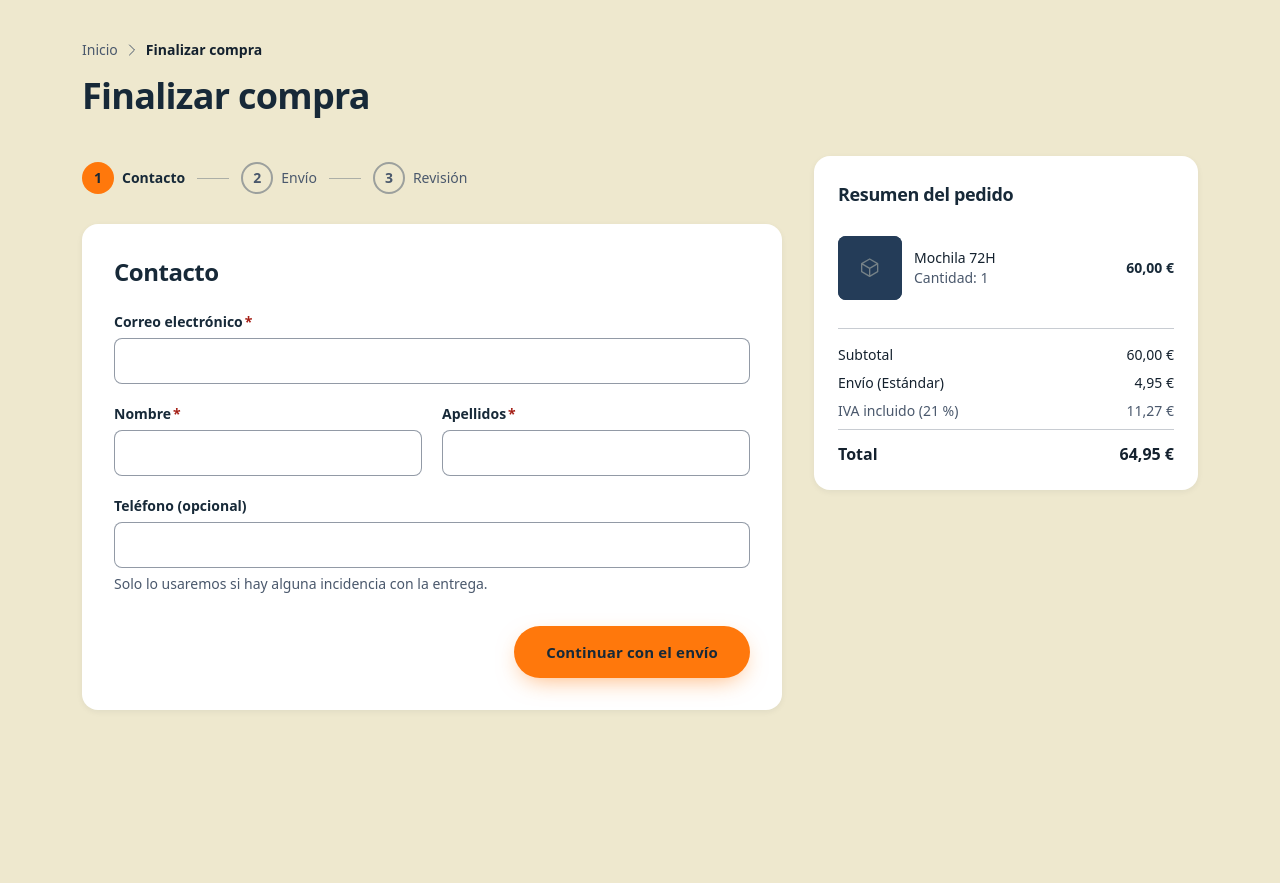
Test: CheckoutFlow › offers only shippable provinces and preselects the one matching the postal code
Type "Ana@Example.es" into the field labelled "Correo electrónico" at (432, 361), box [114,338,750,384]
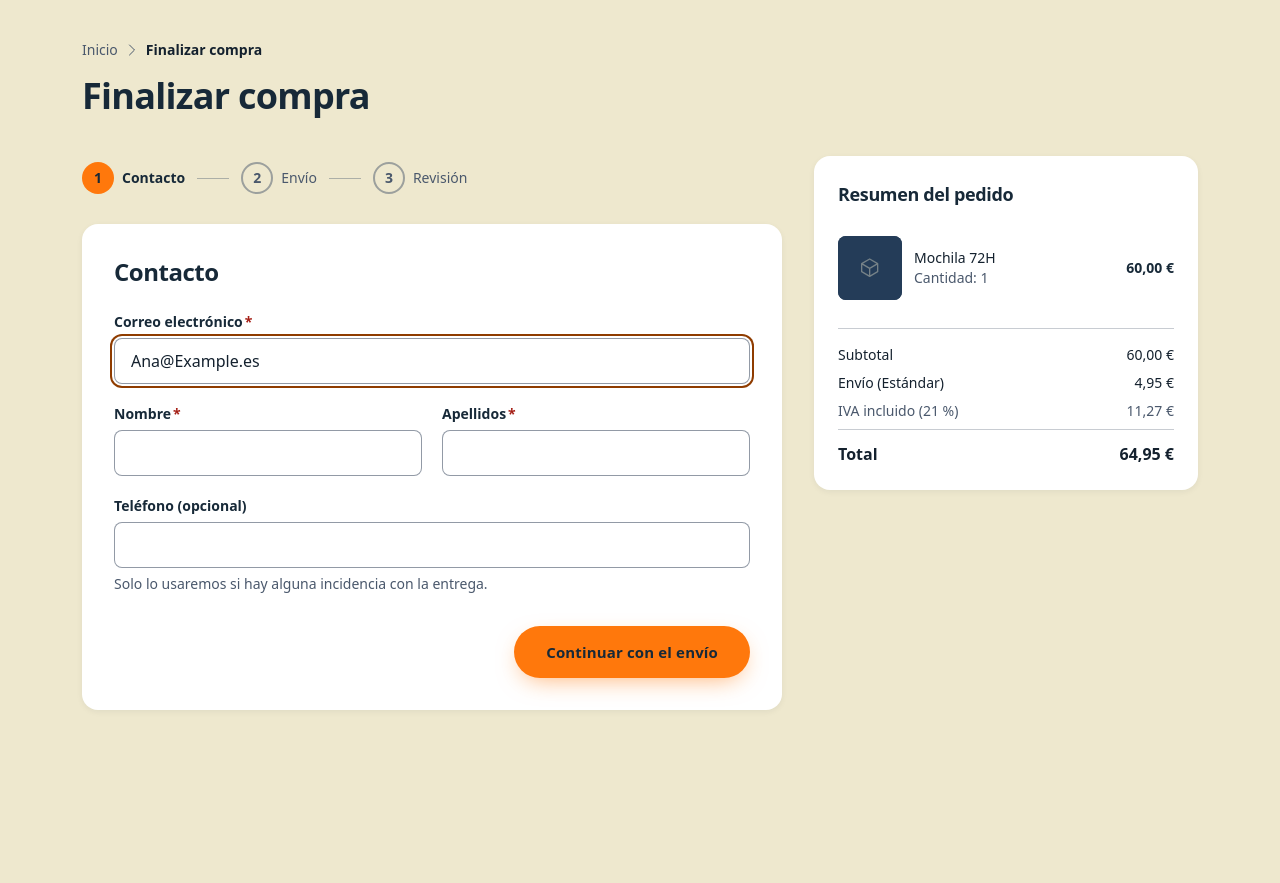
Type "Ana" into the field labelled "Nombre" at (268, 453), box [114,430,422,476]
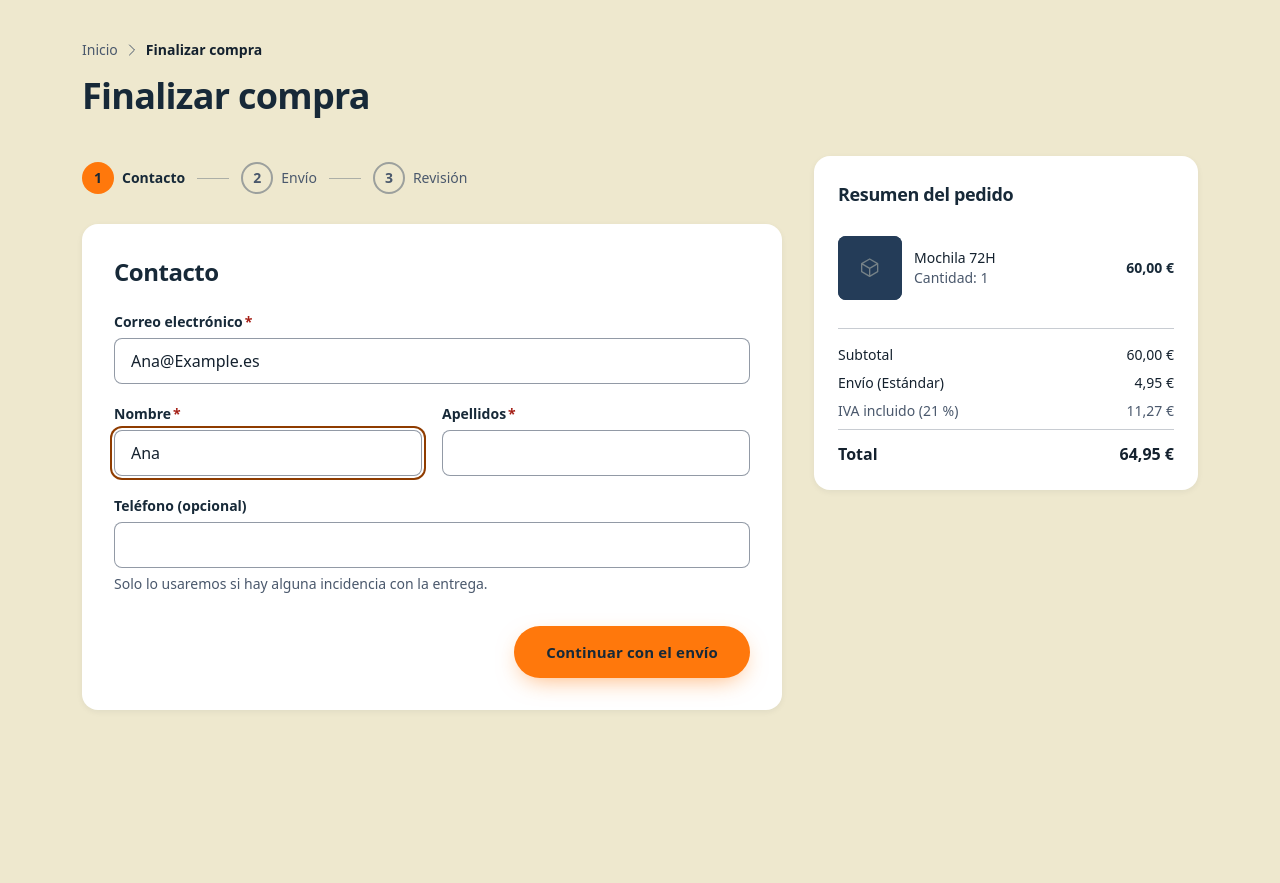
Type "García" into the field labelled "Apellidos" at (596, 453), box [442,430,750,476]
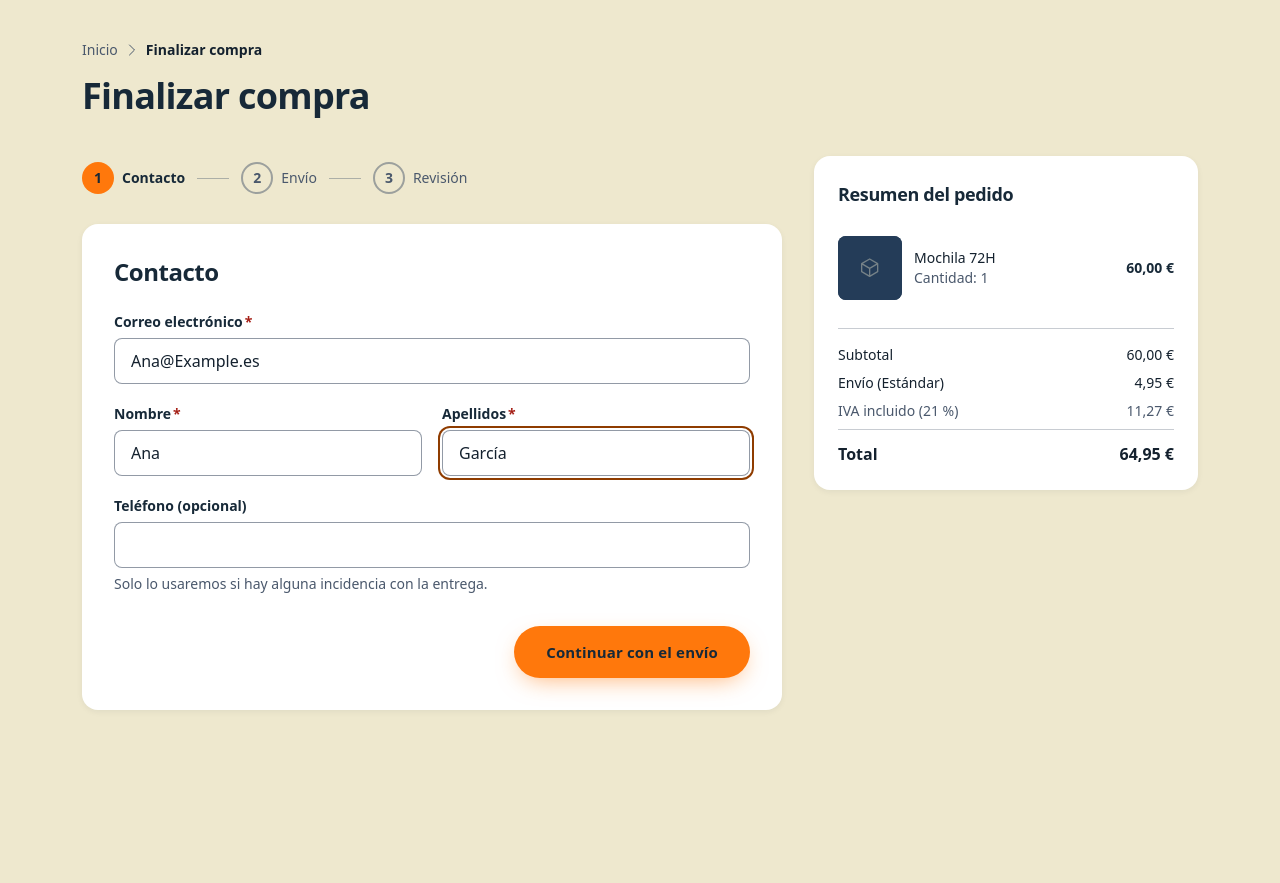
Click the button "Continuar con el envío" at (632, 652), box [514,626,750,678]
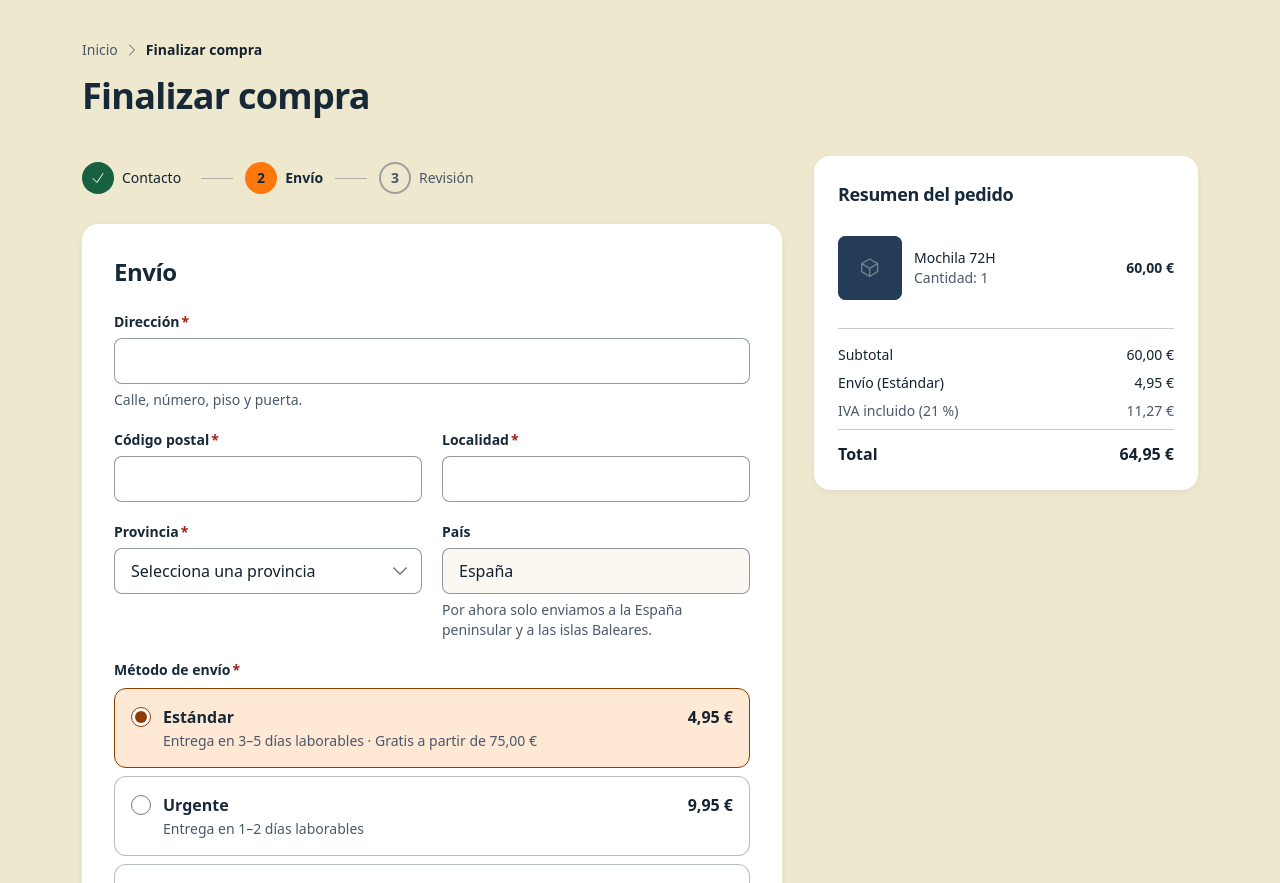
Expected: the heading "Envío" is shown, [114,255,177,288]
Type "08001" into the field labelled "Código postal" at (268, 479), box [114,456,422,502]
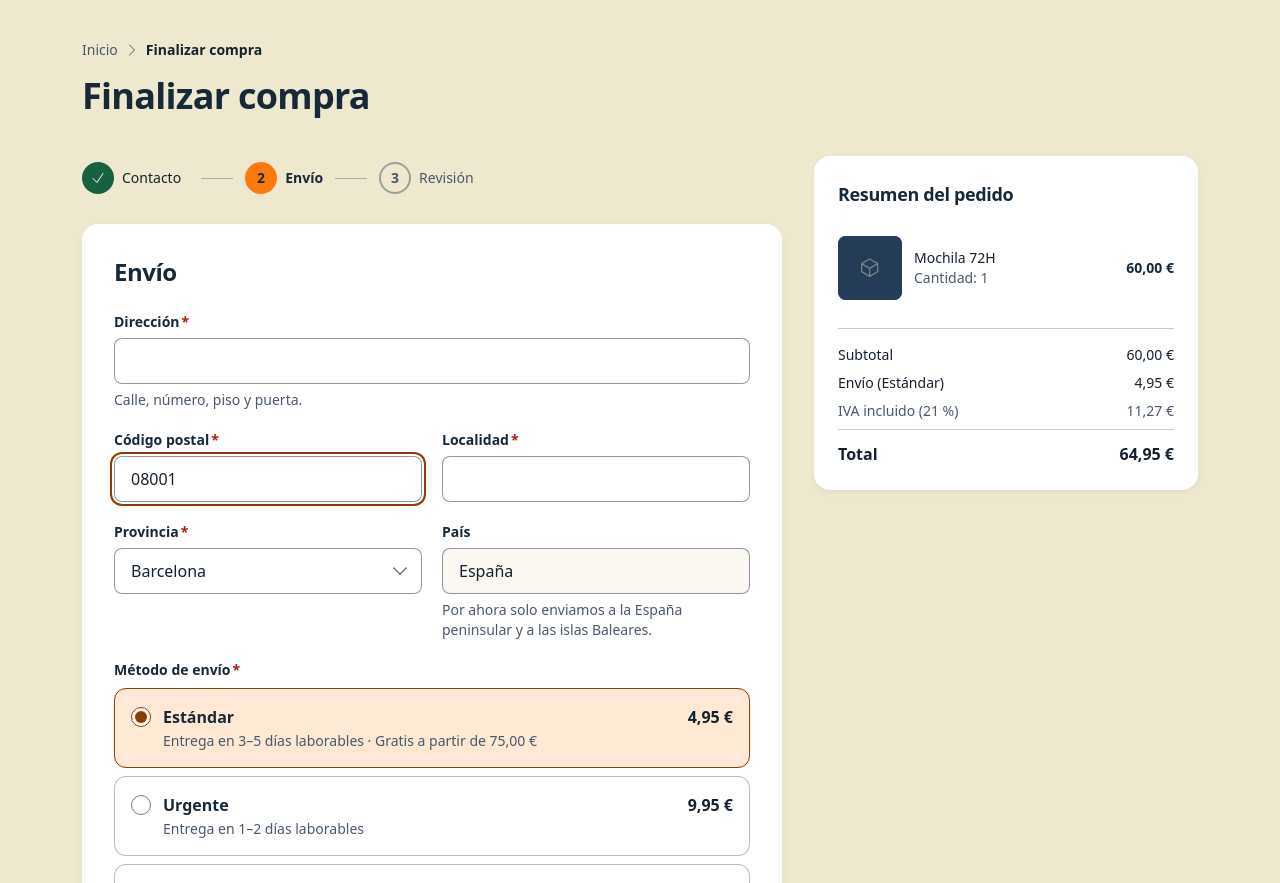
Expected: the dropdown labelled "Provincia" shows "Barcelona", [114,548,422,594]
Replace the text in the field labelled "Código postal" with "28013" at (268, 479), box [114,456,422,502]
(page scrolled)
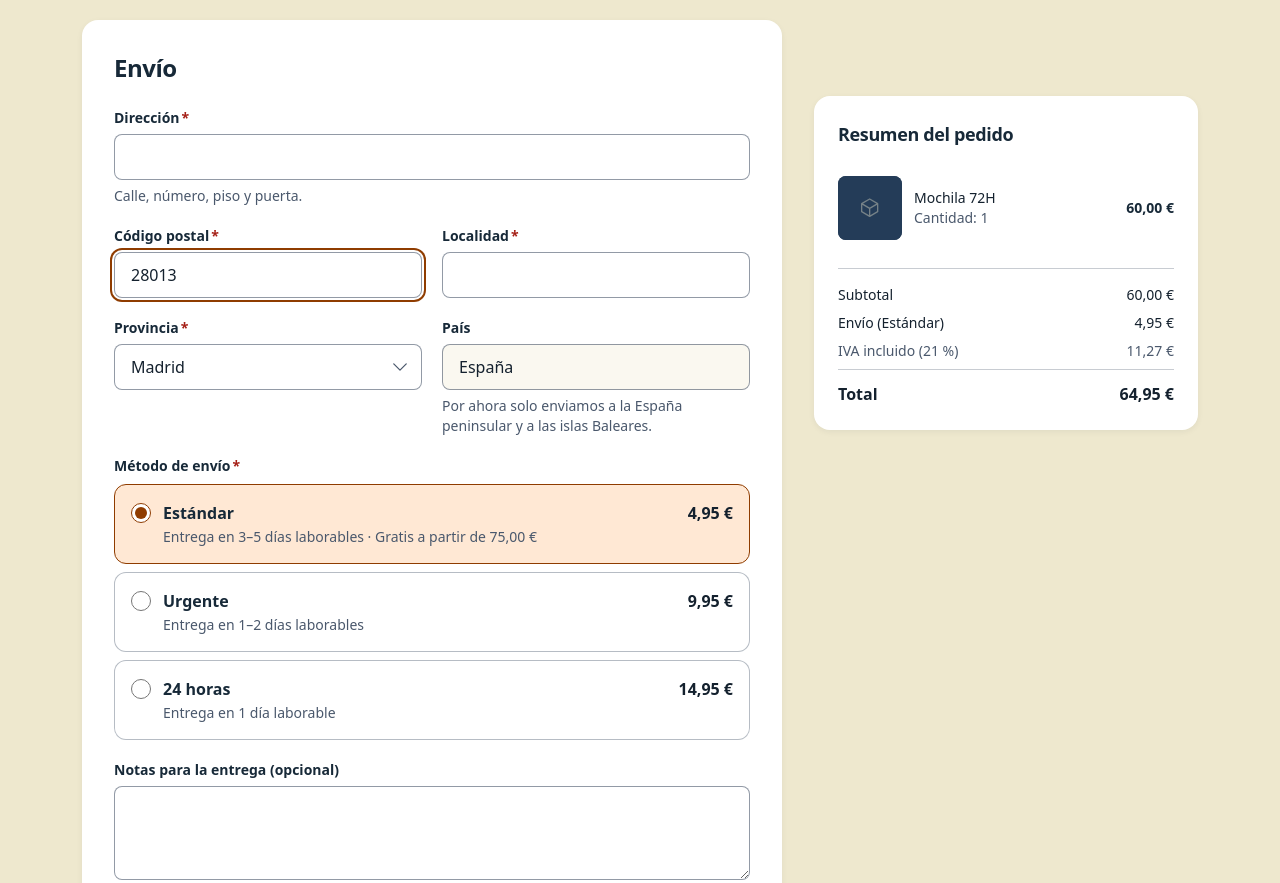
Expected: the element "Código postal" is shown, [114,108,750,880]
Expected: the dropdown labelled "Provincia" shows "Madrid", [114,344,422,390]
